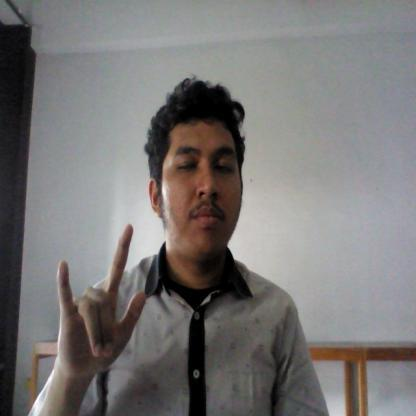ILoveYou: (52, 217, 147, 391)
